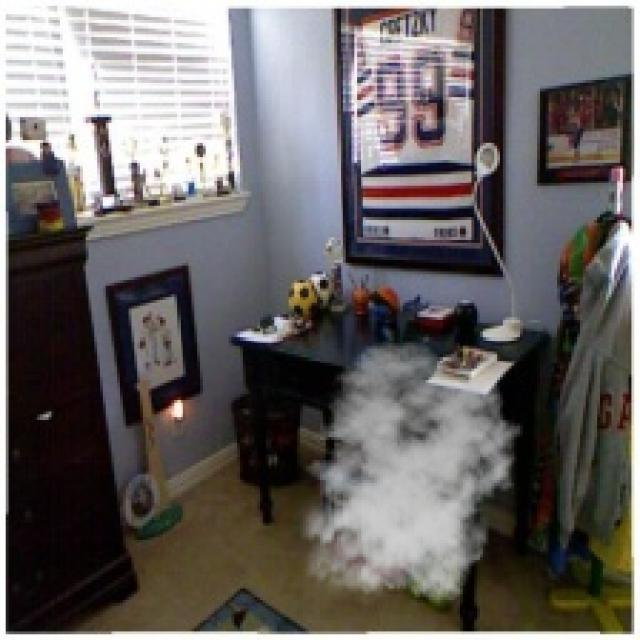smoke: (288, 340, 523, 611)
